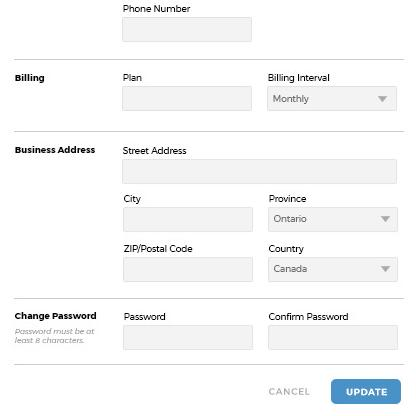button: (331, 378, 401, 404)
field: (119, 159, 398, 185), (118, 324, 254, 352), (119, 15, 253, 42), (119, 206, 253, 233), (265, 84, 398, 111), (265, 324, 398, 351), (116, 85, 254, 111), (122, 256, 254, 283), (267, 256, 398, 282), (268, 206, 398, 232)
field_with_label: (116, 146, 400, 187), (119, 242, 257, 285), (116, 312, 255, 354), (263, 72, 401, 114), (116, 194, 255, 235), (113, 72, 255, 112), (265, 243, 400, 284), (117, 5, 255, 44), (262, 313, 400, 352), (266, 194, 400, 234)
